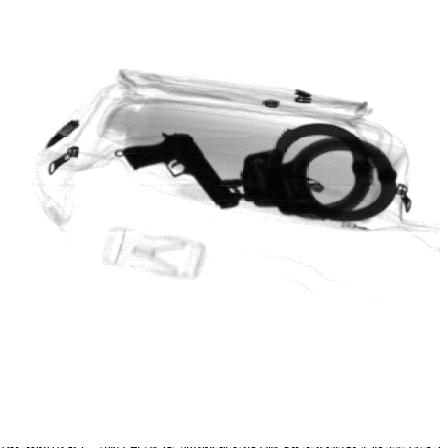Bullet: (45, 119, 79, 149)
Gun: (120, 131, 243, 211)
HandCuffs: (215, 119, 400, 226)
